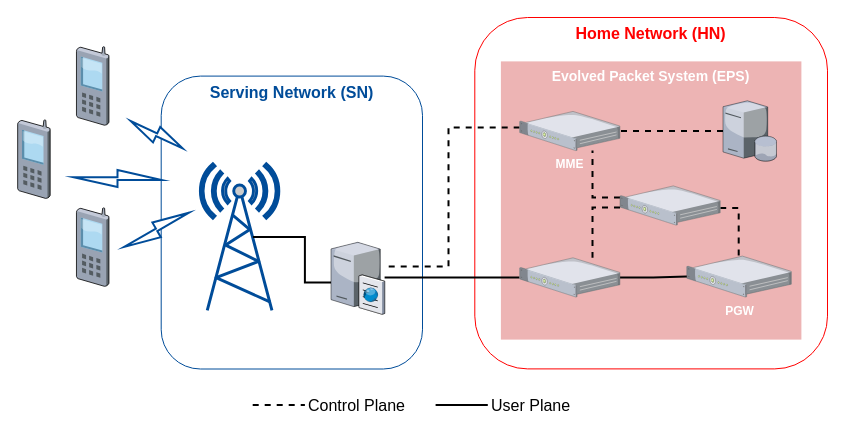
The diagram is 845 pixels wide and 445 high, and some of its shapes have lost their labels. Each missing label, with the centre of its shape:
HSS: point (749, 130)
PCRF: point (670, 205)
SGW: point (569, 276)
